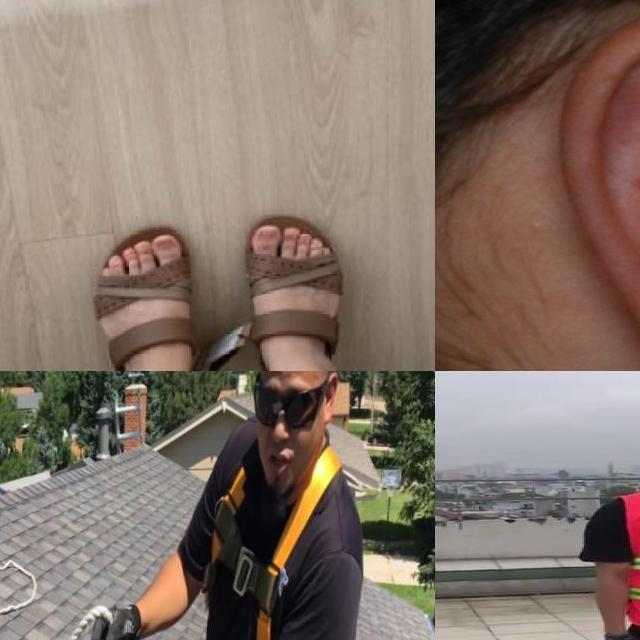Harness: (208, 451, 342, 640)
No_Ear-Protection: (564, 0, 640, 371)
Sandals: (232, 194, 361, 371), (89, 213, 221, 371)
person: (571, 413, 640, 640)
